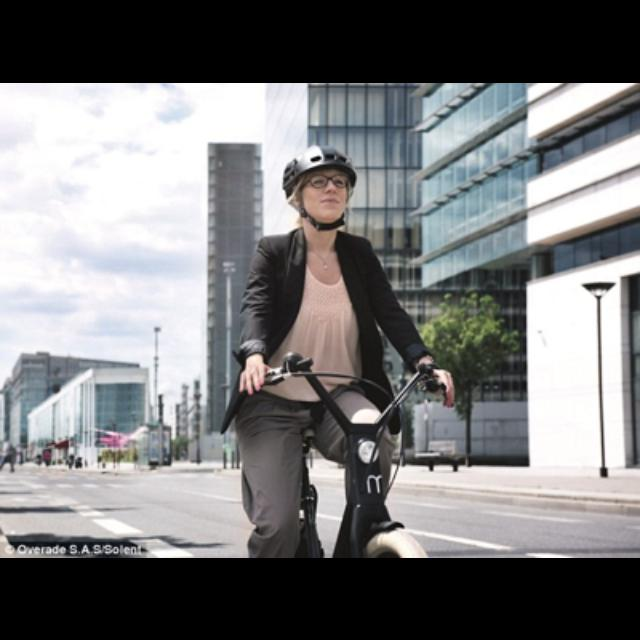With Helmet: (270, 137, 374, 231)
